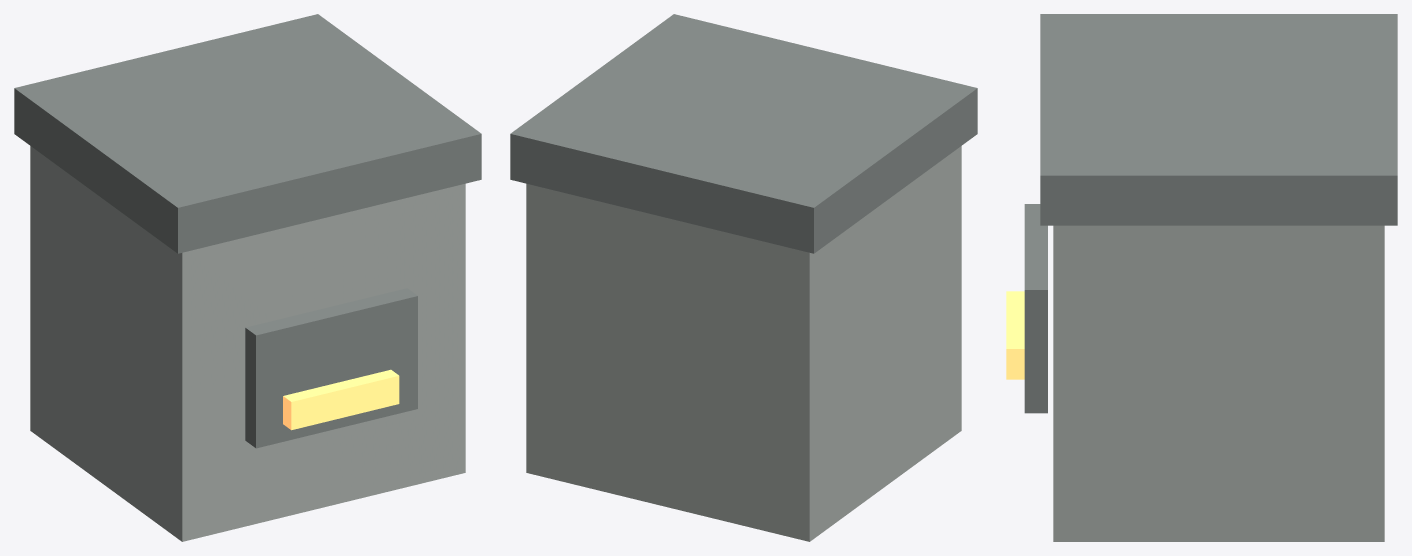
File: furnace.glb
The picture shows the model from 3 angles, left to right: view 1: azimuth 30°, elevation 25°; view 2: azimuth 150°, elevation 25°; view 3: azimuth 270°, elevation 25°; orthographic projection. The views are drawn at different scales.
Parts seen in each view (by area): view 1: FurnaceBody, FurnaceTop, FurnaceMouth, FurnaceGlow; view 2: FurnaceBody, FurnaceTop; view 3: FurnaceBody, FurnaceTop, FurnaceMouth, FurnaceGlow.
Boxes of the visible parts, x1,y1,x2,y2 form: FurnaceBody: [30, 146, 465, 541]; FurnaceTop: [14, 14, 481, 253]; FurnaceMouth: [245, 288, 417, 448]; FurnaceGlow: [283, 369, 399, 430]; FurnaceBody: [526, 146, 961, 541]; FurnaceTop: [510, 14, 977, 253]; FurnaceBody: [1053, 225, 1384, 541]; FurnaceTop: [1040, 14, 1397, 225]; FurnaceMouth: [1024, 204, 1047, 413]; FurnaceGlow: [1006, 291, 1024, 379].
Size of the model in its own units: 0.9 by 0.965 by 0.92.
